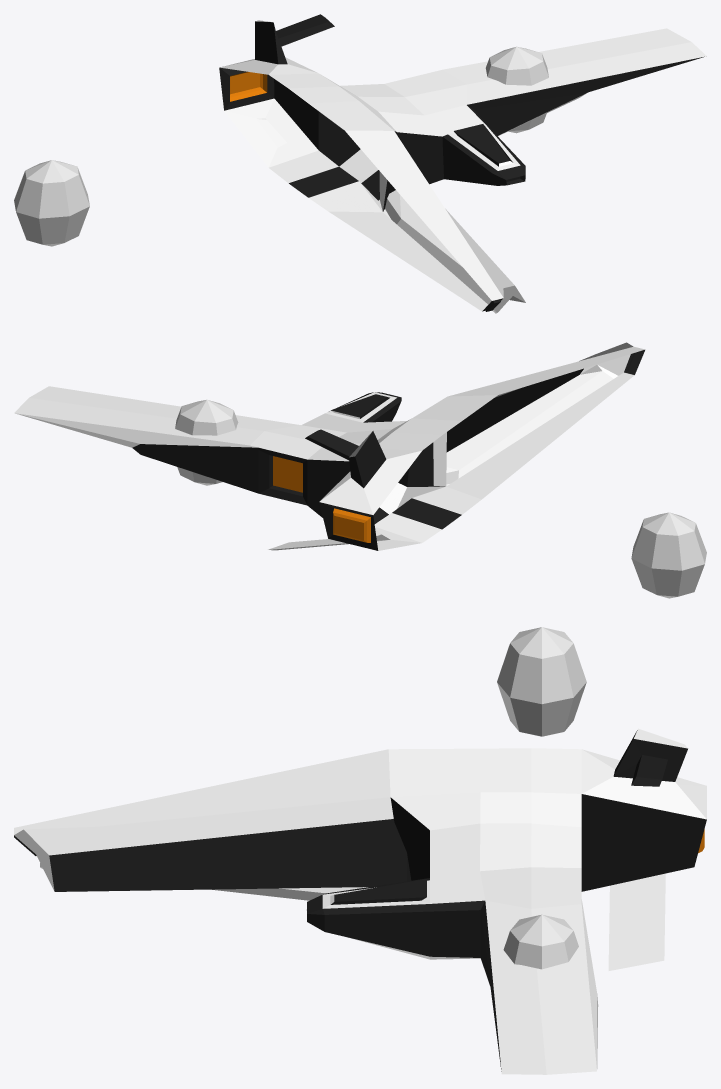
File: spaceship.glb
3 renders of one model, top to bottom at view 1: azimuth 30°, elevation 25°; view 2: azimuth 150°, elevation 25°; view 3: azimuth 270°, elevation 25°, orthographic. The views are drawn at different scales.
Visible parts, largest first — view 1: Cube, Sphere.001, Sphere; view 2: Cube, Sphere.001, Sphere; view 3: Cube, Sphere.001, Sphere.
Boxes of the visible parts, <box> form: Cube: <box>219,14,706,313</box>; Sphere.001: <box>14,160,89,246</box>; Sphere: <box>485,46,548,133</box>; Cube: <box>14,342,645,550</box>; Sphere.001: <box>631,512,706,598</box>; Sphere: <box>175,399,238,485</box>; Cube: <box>14,728,706,1074</box>; Sphere.001: <box>497,627,586,736</box>; Sphere: <box>503,914,578,969</box>.
Size of the model in its own units: 10.94 by 2.27 by 7.64.
